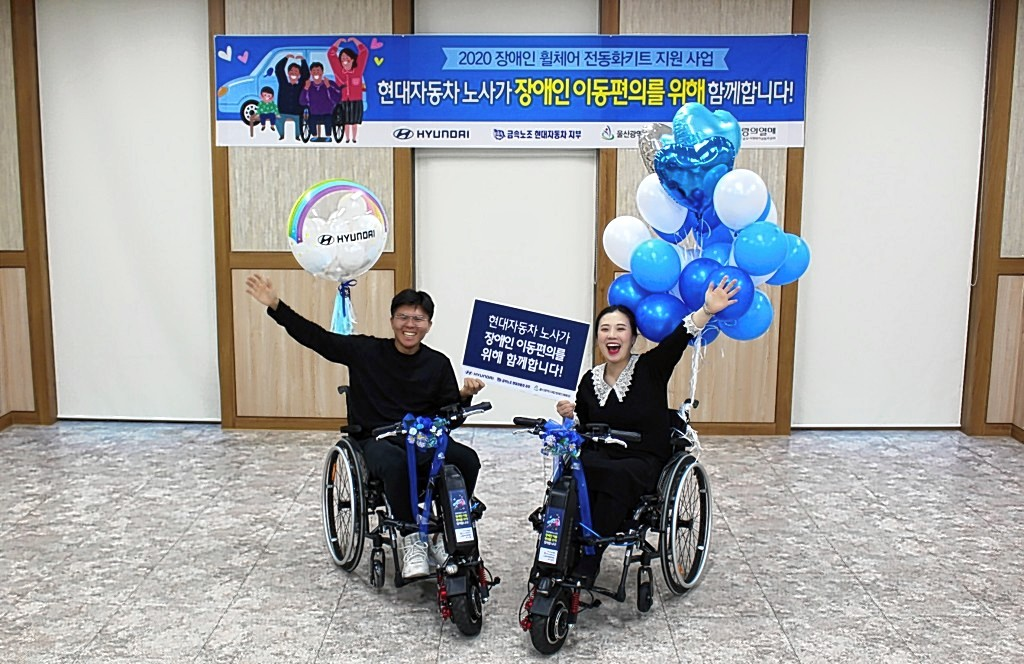wheelchair: (241, 273, 482, 589), (533, 275, 741, 594)
